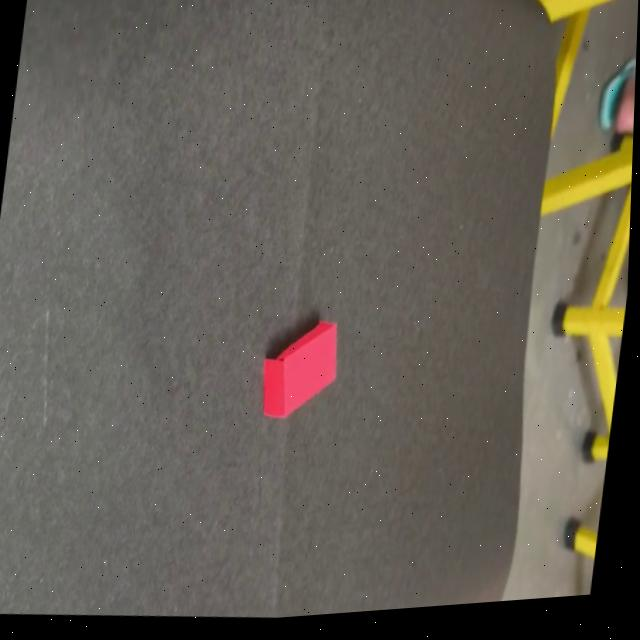red block: (257, 311, 345, 423)
